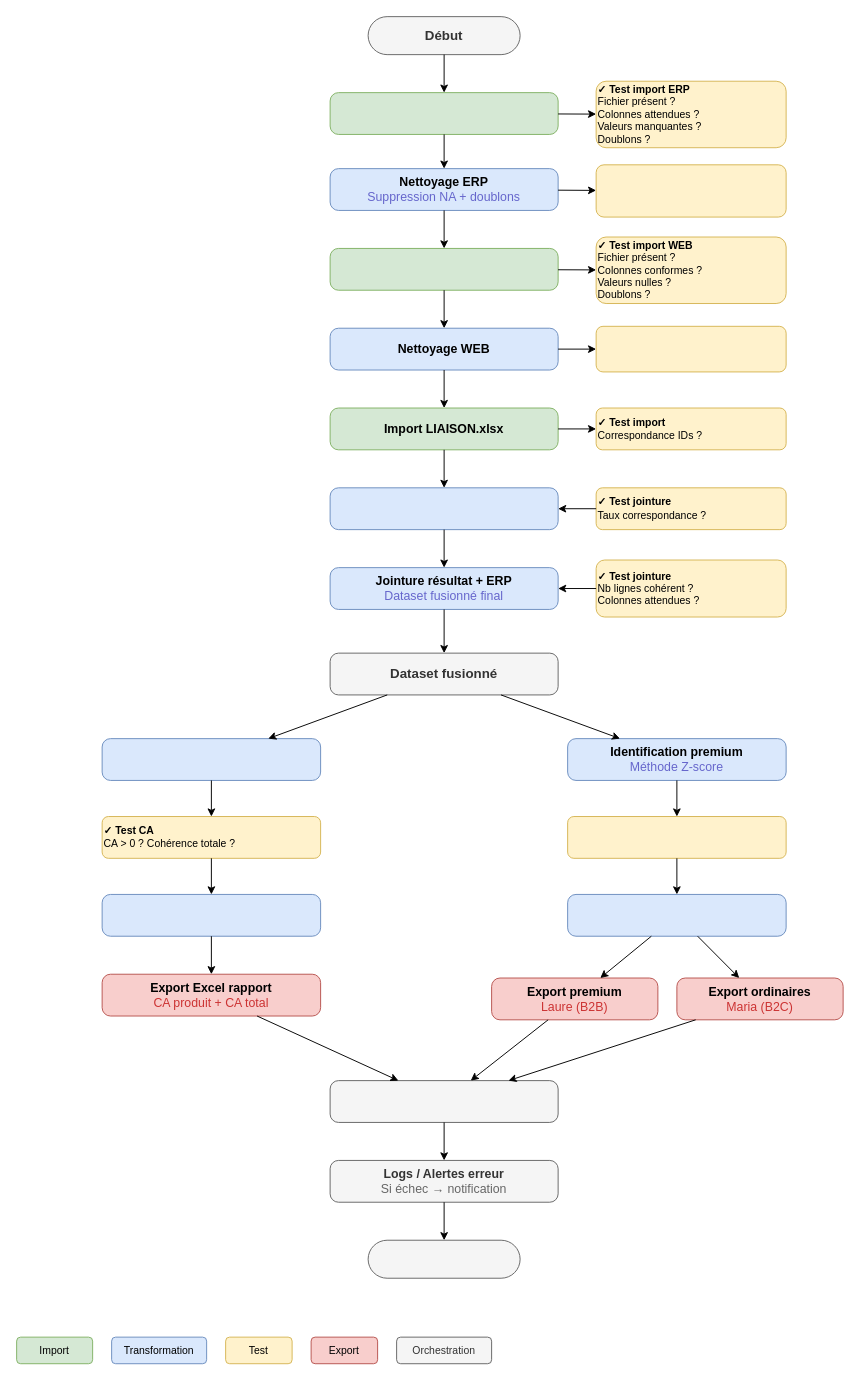
Image size: 860x1380. Some labels were removed from this diagram. Each missing label, with the box of its shape:
Calcul CA produit CA = prix × quantité: (101, 738, 321, 780)
Calcul CA total: (101, 893, 321, 936)
Fin pipeline: (367, 1239, 520, 1278)
Import ERP.xlsx: (329, 92, 558, 134)
Import WEB.xlsx: (329, 247, 558, 290)
Jointure WEB + LIAISON Fichier intermédiaire: (329, 487, 558, 530)
Planification Kestra Tous les 15 du mois à 9h: (329, 1080, 558, 1122)
Séparation Premium / Ordinaires: (567, 893, 786, 936)
✓ Test nettoyage Clés uniques ?: (595, 325, 786, 372)
✓ Test nettoyage Clés uniques ? Lignes supprimées ?: (595, 164, 786, 217)
✓ Test z-score Seuil OK ? Classification ?: (567, 816, 786, 858)
